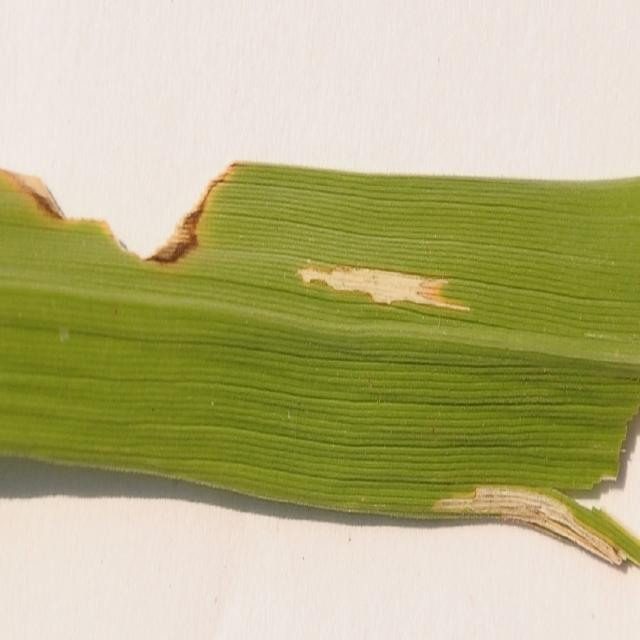leaf blight: (1, 155, 252, 275), (427, 457, 636, 569), (291, 242, 474, 330)
